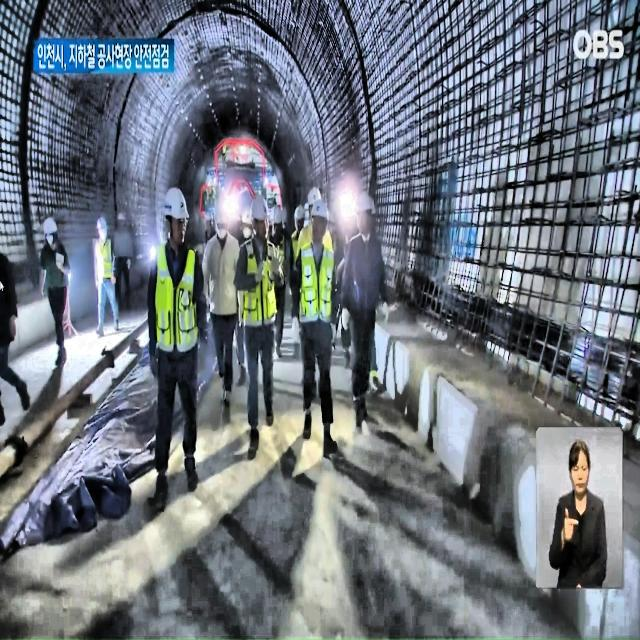safety_helmet: (162, 189, 190, 224), (358, 190, 377, 218), (305, 182, 322, 208), (310, 206, 334, 224), (255, 200, 270, 221), (95, 216, 110, 234), (44, 218, 58, 237), (295, 200, 307, 222)
safety_jacket: (156, 245, 202, 351), (242, 242, 279, 326), (299, 245, 335, 325), (95, 240, 115, 282)
